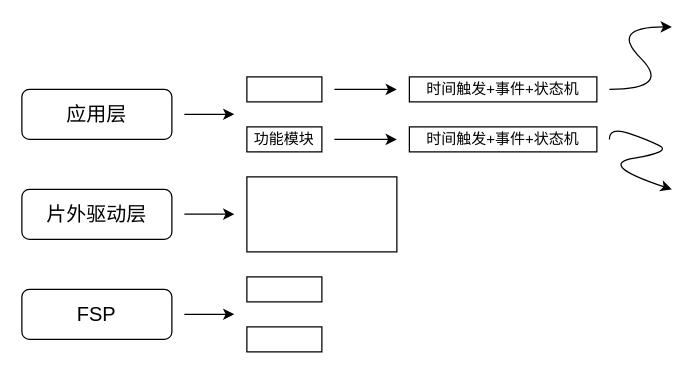
Some shapes in this 693 by 374 pixel diagram are drawn without their labels. The shapes that lost their labels are listed below. From the top down, each one's centre as x and y in pixels, then its label:
At point 284,89: "框架".
At point 284,289: "ARM内核".
At point 284,339: "片上外设".
